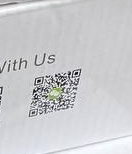2d: (29, 68, 82, 118)
